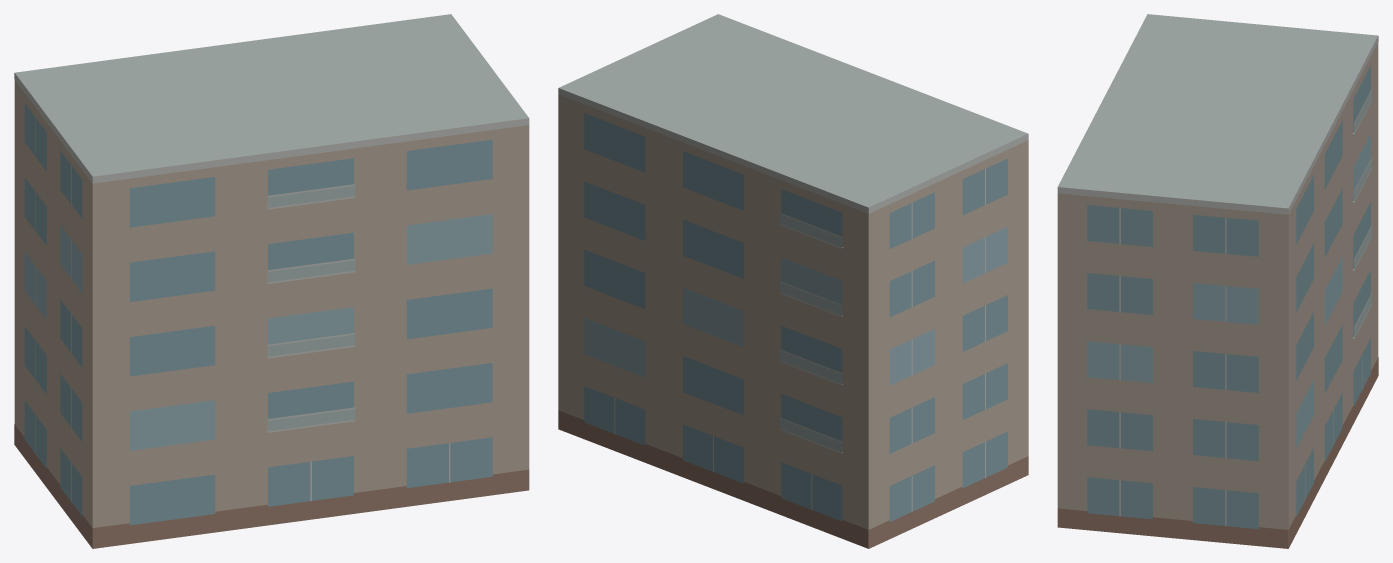
Rendered from survey-upis-32894245.glb.
The picture shows the model from 3 angles, left to right: view 1: azimuth 30°, elevation 25°; view 2: azimuth 150°, elevation 25°; view 3: azimuth 270°, elevation 25°; orthographic projection. The views are drawn at different scales.
Visible parts, largest first — view 1: survey-upis-32894245.tmp; view 2: survey-upis-32894245.tmp; view 3: survey-upis-32894245.tmp.
Boxes of the visible parts, bbox=[...] form: survey-upis-32894245.tmp: bbox=[14, 14, 529, 548]; survey-upis-32894245.tmp: bbox=[558, 14, 1028, 548]; survey-upis-32894245.tmp: bbox=[1057, 14, 1378, 548].
Size of the model in its own units: 16.18 by 13.2 by 11.28.
